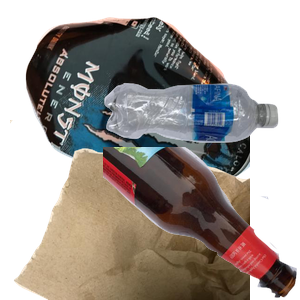glass: (103, 147, 300, 300)
metal: (23, 15, 263, 195)
plastic: (102, 81, 300, 216)
trash: (10, 120, 250, 300)
